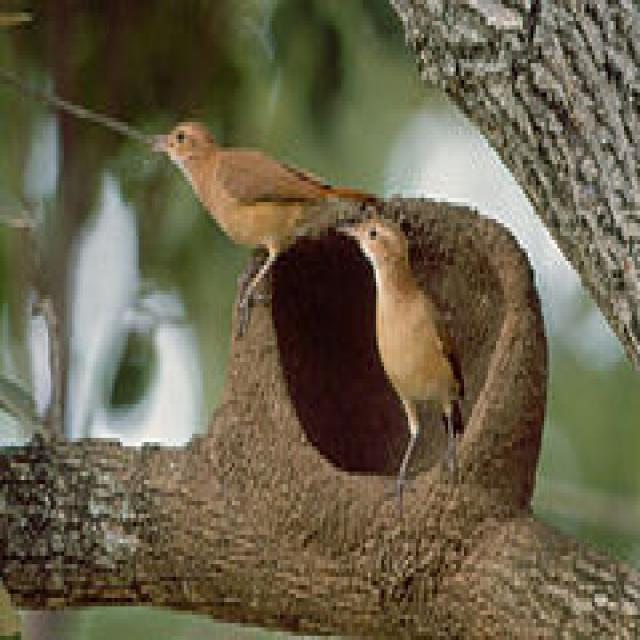bird: (152, 112, 382, 334), (326, 190, 482, 510)
